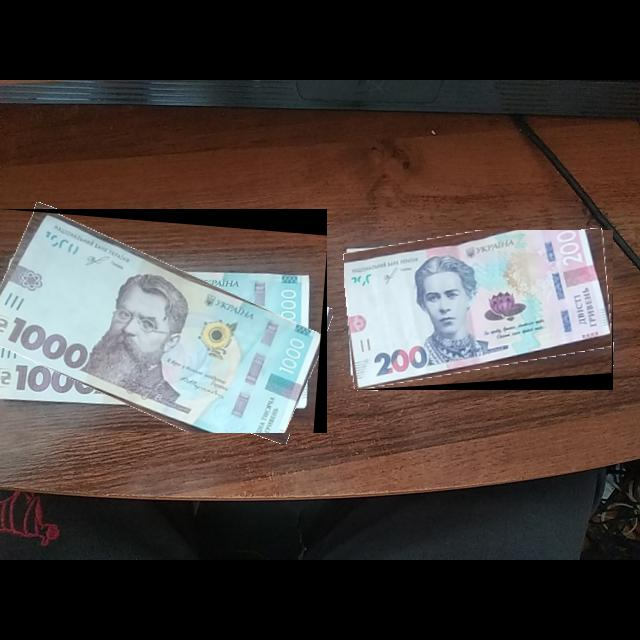1000uah: (0, 212, 322, 434)
200uah: (345, 230, 614, 391)
